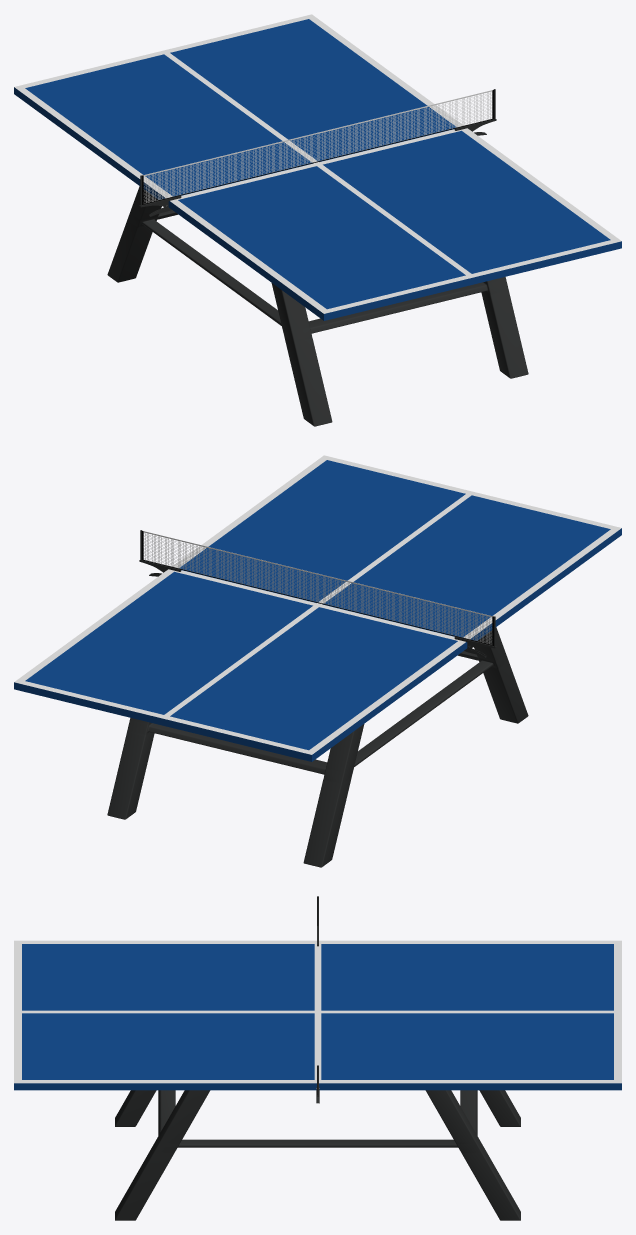
Rendered from table.glb.
3 renders of one model, top to bottom at view 1: azimuth 30°, elevation 25°; view 2: azimuth 150°, elevation 25°; view 3: azimuth 270°, elevation 25°, orthographic.
Parts seen in each view (by area): view 1: Table_0, Legs_5, Net_3, NetBorder_4; view 2: Table_0, Legs_5, Net_3, NetBorder_4; view 3: Table_0, Legs_5.
Boxes of the visible parts, x1,y1,x2,y2 form: Table_0: (14,14,621,320); Legs_5: (107,186,528,426); Net_3: (144,91,491,203); NetBorder_4: (142,89,494,204); Table_0: (14,455,621,761); Legs_5: (107,627,528,867); Net_3: (144,532,491,644); NetBorder_4: (141,530,493,645); Table_0: (14,940,621,1090); Legs_5: (115,1090,520,1220).
Bounding box in the file's own units: 3.63 × 1.88 × 5.48.
